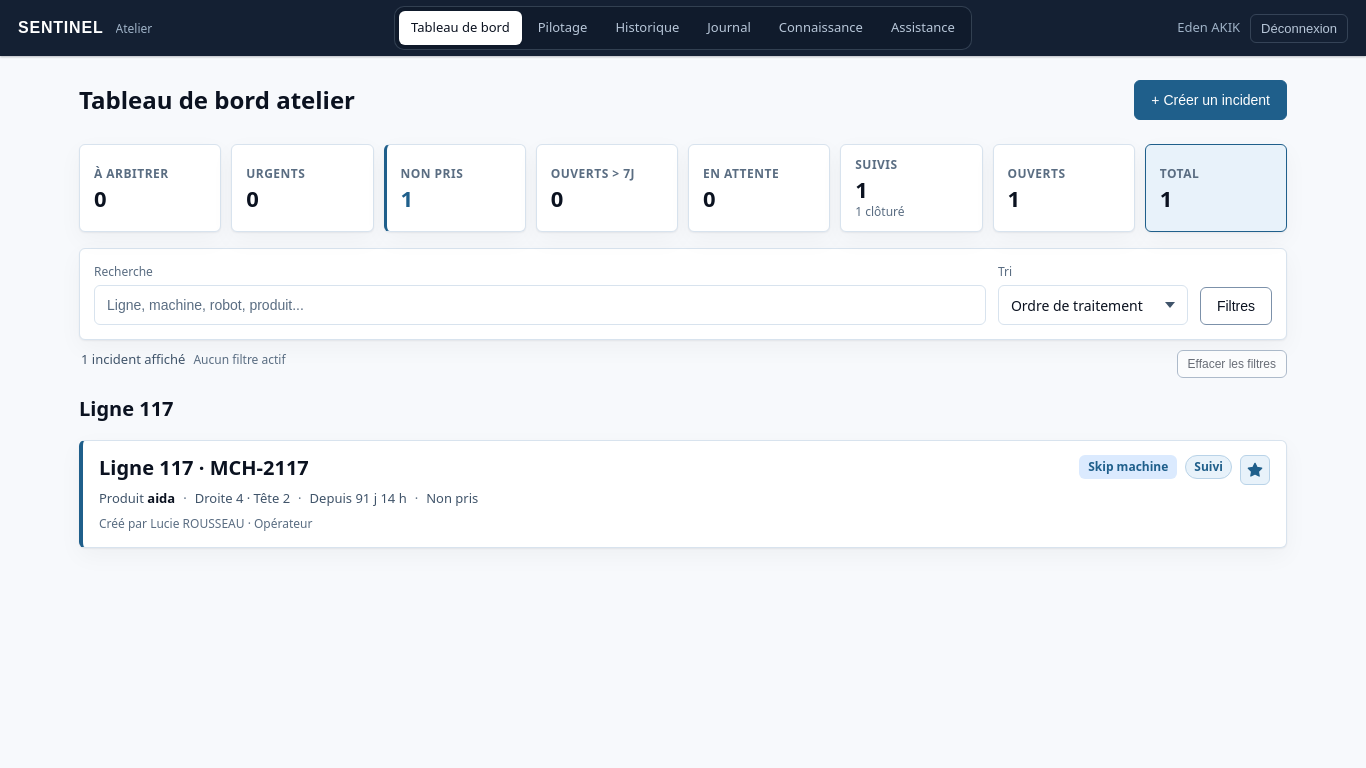
Scenario: WorkshopDashboardPage — suivis résolus séparés (lot 7D, LIST-04, DR-12) › affiche l’incident actif suivi et le suivi résolu une fois le scope « Suivis » activé
Step 1. Click the text "Suivis" → {"x": 876, "y": 165}, box [855,157,898,173]
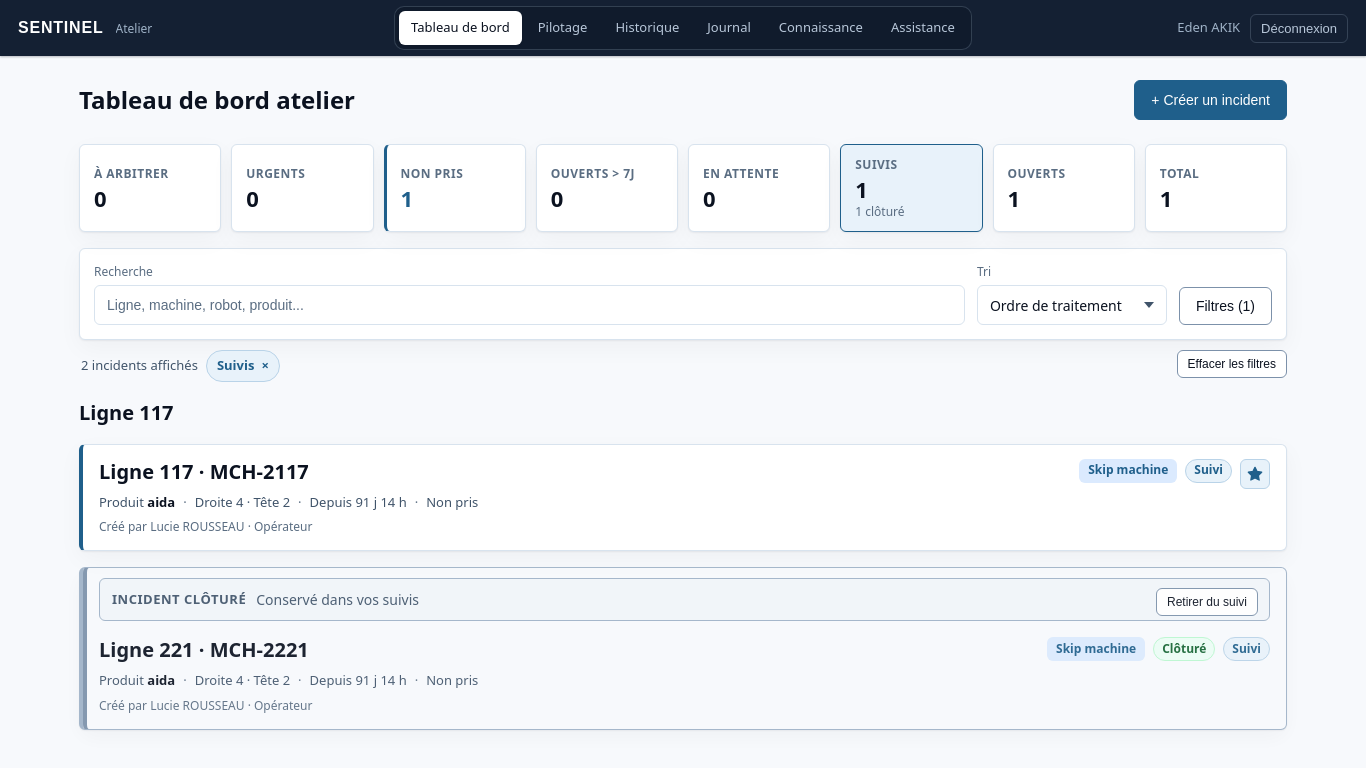
Expected: the heading "Ligne 117" is shown, [79,399,174,426]
Result: the heading "Ligne 221 · MCH-2221" is shown at [99,637,309,663]
